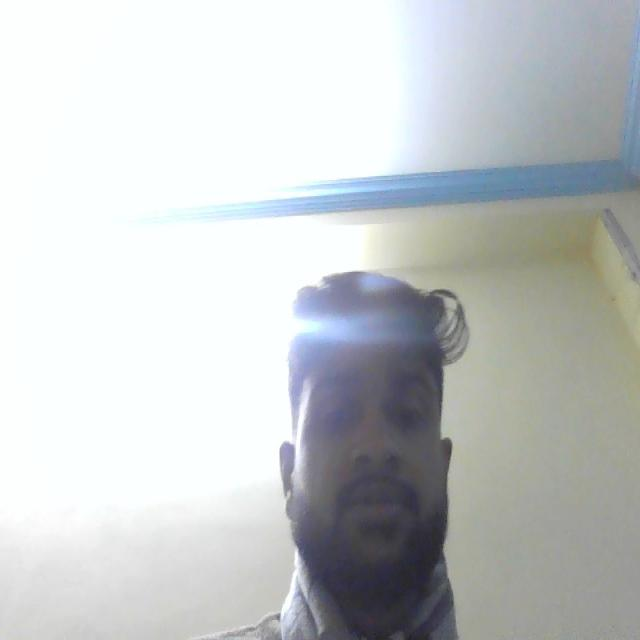real: (273, 244, 465, 607)
